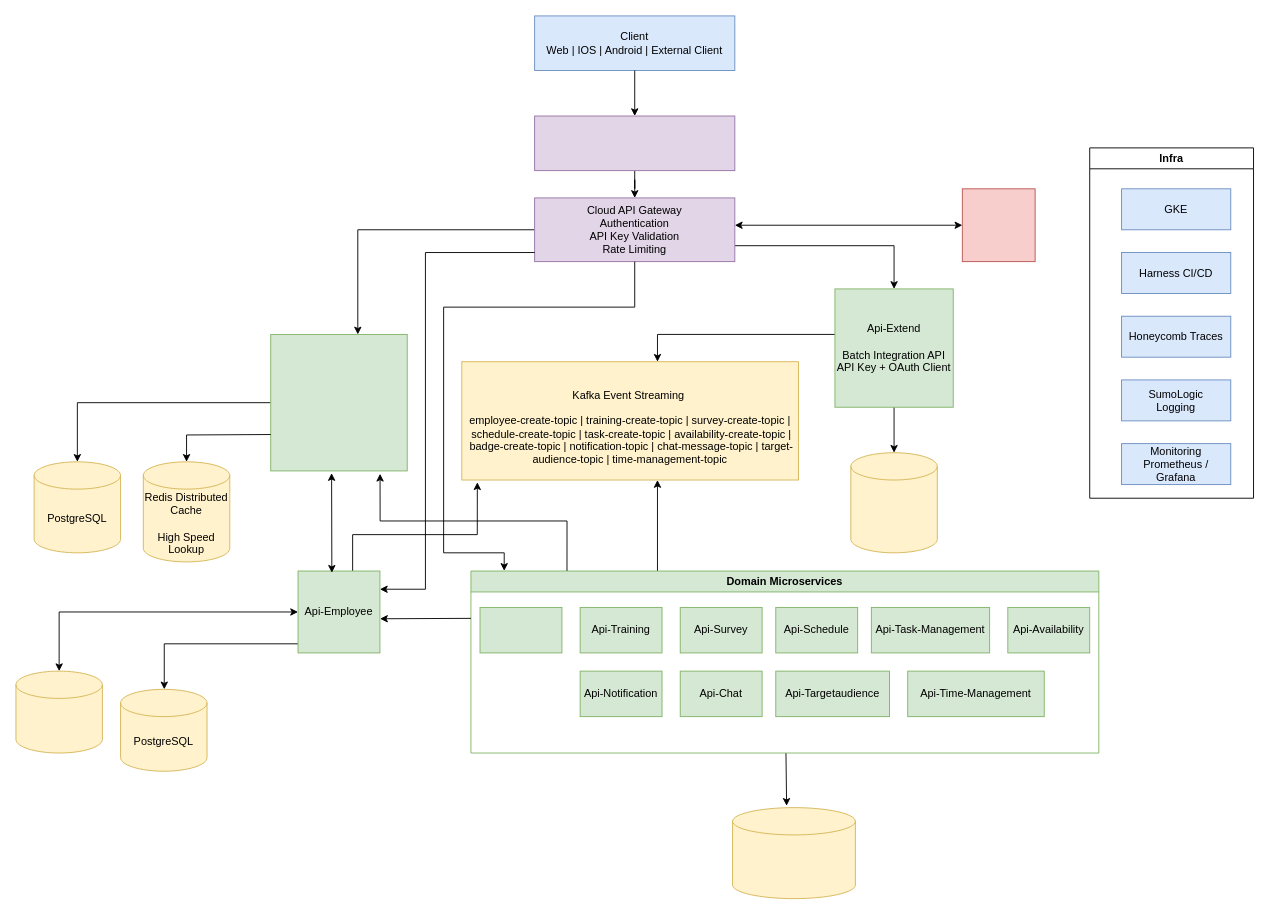
This 1269x915 diagram has some shape labels left out. The centre of each missing label's shape, as x and y in pixels:
Api-Badge: (520,630)
Api-Core (Company, locations, employee positions, BUs, user security groups): (338,402)
Auth Server (Okta): (998,225)
Cassandra Batch Storage TTL 30 Days: (893,502)
Elasticsearch: (58,711)
Google Cloud Load Balancer: (634,143)
PostgreSQL Each Microservice has own DB: (793,853)
